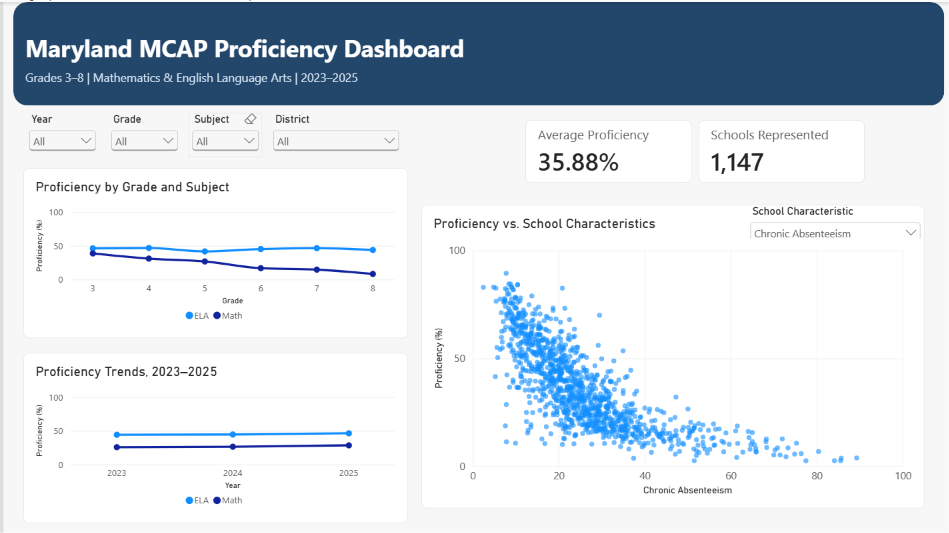

This screenshot's page, from the dashboard's own definition file:
{"tool":"powerbi","page":{"name":"Page 1","canvas":[1280,720],"ordinal":0},"visuals":[{"type":"shape","box":[13.3,0,1258.3,140],"z":0},{"type":"lineChart","title":"Proficiency by Grade and Subject","fields":{"Category":["MCAP.grade"],"Series":["MCAP.subject"],"Y":["MCAP.Average Proficiency"]},"box":[26.7,225,520,230],"z":1000},{"type":"slicer","fields":{"Values":["MCAP.year"]},"box":[30,150,100,60],"z":2000},{"type":"slicer","fields":{"Values":["MCAP.lea_name"]},"box":[360,150,180,60],"z":3000},{"type":"lineChart","title":"Proficiency Trends, 2023–2025","fields":{"Category":["MCAP.year"],"Series":["MCAP.subject"],"Y":["MCAP.Average Proficiency"]},"box":[26.7,475,520,230],"z":4000},{"type":"slicer","fields":{"Values":["MCAP.grade"]},"box":[140,150,100,60],"z":5000},{"type":"slicer","fields":{"Values":["MCAP.subject"]},"box":[250,150,100,60],"z":6000},{"type":"scatterChart","title":"Proficiency vs. School Characteristics","fields":{"Category":["MCAP.School Key"],"X":["MCAP.Average Chronic Absenteeism"],"Y":["MCAP.Average Proficiency"]},"box":[565,275,680,410],"z":6500},{"type":"slicer","fields":{"Values":["School Characteristic.School Characteristic"]},"box":[1005,275,240,45],"z":7000},{"type":"cardVisual","fields":{"Data":["MCAP.Average Proficiency Display"]},"box":[705,160,225,85],"z":9000},{"type":"cardVisual","fields":{"Data":["MCAP.Schools Represented"]},"box":[940,160,225,85],"z":10000},{"type":"textbox","box":[30,40,614.3,80],"z":11000},{"type":"textbox","box":[30,90,639.2,80],"z":12000}]}

Visuals, with their boxes in screenshot pixels (x1, y1, x2, y2), scaled from the page's 1280x720 canvas onto the 949x533 screenshot:
shape: [x1=10, y1=0, x2=943, y2=104]
"Proficiency by Grade and Subject" lineChart: [x1=20, y1=167, x2=405, y2=337]
slicer - MCAP.year: [x1=22, y1=111, x2=96, y2=155]
slicer - MCAP.lea_name: [x1=267, y1=111, x2=400, y2=155]
"Proficiency Trends, 2023–2025" lineChart: [x1=20, y1=352, x2=405, y2=522]
slicer - MCAP.grade: [x1=104, y1=111, x2=178, y2=155]
slicer - MCAP.subject: [x1=185, y1=111, x2=259, y2=155]
"Proficiency vs. School Characteristics" scatterChart: [x1=419, y1=204, x2=923, y2=507]
slicer - School Characteristic.School Characteristic: [x1=745, y1=204, x2=923, y2=237]
cardVisual - MCAP.Average Proficiency Display: [x1=523, y1=118, x2=690, y2=181]
cardVisual - MCAP.Schools Represented: [x1=697, y1=118, x2=864, y2=181]
textbox: [x1=22, y1=30, x2=478, y2=89]
textbox: [x1=22, y1=67, x2=496, y2=126]
